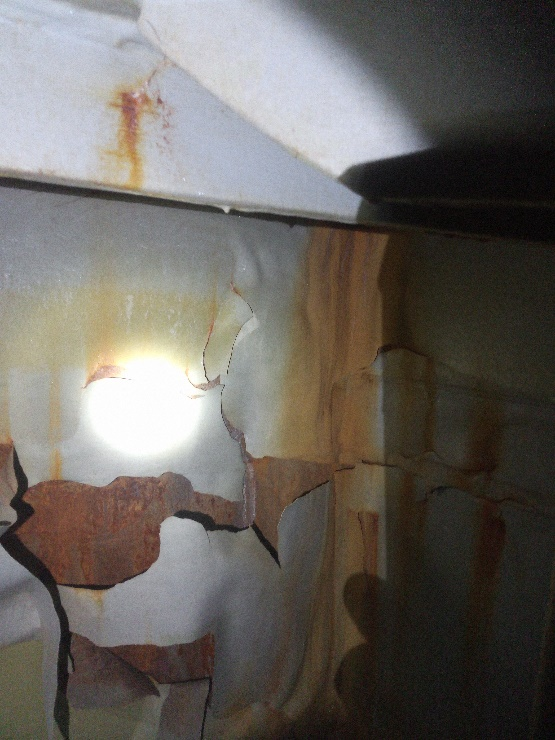corrosion: (6, 258, 250, 393), (5, 455, 200, 606), (280, 226, 391, 453), (201, 421, 330, 569), (47, 611, 219, 721), (460, 383, 510, 695), (311, 506, 378, 718), (390, 352, 443, 596), (80, 81, 187, 186)
